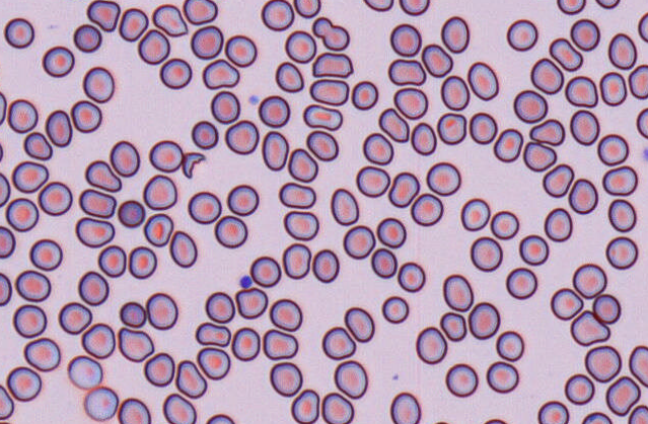PLT: (239, 275, 254, 290), (249, 95, 261, 105)
RBC: (570, 310, 610, 346), (605, 375, 640, 416), (584, 345, 621, 382), (311, 16, 349, 51), (333, 359, 367, 398), (117, 327, 154, 362), (83, 385, 118, 421), (572, 262, 607, 298), (142, 174, 177, 210), (23, 337, 60, 371), (530, 57, 564, 94), (467, 301, 500, 339), (145, 292, 178, 330), (175, 359, 207, 398), (467, 61, 499, 100), (6, 366, 41, 401), (426, 161, 461, 196), (224, 119, 259, 154), (67, 355, 103, 389), (81, 322, 115, 358), (11, 160, 48, 193), (151, 3, 188, 36), (84, 159, 121, 192), (415, 326, 447, 364), (75, 216, 114, 247), (12, 304, 47, 338), (137, 28, 170, 64), (15, 269, 51, 302), (82, 66, 114, 103), (442, 273, 473, 311), (5, 197, 39, 231), (549, 37, 583, 71), (196, 346, 230, 380), (513, 89, 547, 123), (38, 181, 72, 215), (187, 190, 221, 224), (321, 326, 356, 359), (269, 361, 302, 396), (469, 236, 502, 271), (342, 224, 375, 259), (393, 86, 428, 119), (148, 139, 183, 172), (262, 328, 298, 360), (202, 58, 239, 89), (109, 140, 140, 177), (78, 188, 116, 218), (311, 51, 353, 78), (445, 363, 478, 397), (58, 301, 92, 334), (410, 192, 443, 226), (190, 25, 223, 59), (143, 352, 175, 387), (355, 165, 390, 197), (261, 130, 289, 170), (388, 171, 419, 207), (568, 177, 598, 214), (330, 187, 359, 225), (440, 15, 469, 53), (550, 287, 583, 320), (605, 236, 638, 269), (269, 298, 302, 331), (214, 215, 247, 248), (224, 34, 257, 67), (235, 286, 268, 319), (421, 43, 453, 77), (542, 163, 574, 197), (564, 75, 598, 107), (70, 99, 102, 133), (287, 147, 318, 182), (378, 107, 409, 142), (78, 270, 109, 305), (7, 98, 38, 133), (602, 165, 637, 196), (344, 306, 374, 342), (302, 103, 342, 130), (283, 210, 319, 240), (309, 78, 349, 105), (569, 109, 599, 145), (282, 242, 311, 279), (608, 32, 637, 69), (321, 391, 354, 423), (486, 360, 518, 393), (284, 30, 316, 63), (41, 45, 74, 77), (29, 238, 62, 270), (597, 133, 629, 166), (159, 57, 192, 89), (389, 23, 421, 56), (226, 184, 259, 216), (506, 18, 538, 51), (257, 95, 290, 127), (86, 0, 120, 31), (260, 0, 294, 31), (387, 58, 426, 85), (169, 230, 197, 267), (278, 181, 316, 208), (45, 109, 72, 147), (389, 391, 421, 423), (505, 267, 537, 299), (249, 255, 281, 287), (306, 129, 338, 161), (362, 132, 393, 165), (162, 393, 196, 423), (118, 7, 148, 41), (493, 128, 523, 162), (460, 197, 490, 231), (290, 388, 319, 423), (231, 326, 260, 361), (440, 75, 469, 110), (204, 291, 235, 323), (523, 141, 556, 171), (143, 213, 173, 246), (570, 18, 600, 51), (210, 90, 240, 123), (607, 198, 636, 232), (128, 245, 157, 279), (311, 248, 339, 283), (599, 71, 627, 106), (529, 118, 565, 145), (518, 234, 549, 265), (3, 17, 34, 48), (436, 112, 466, 144), (97, 244, 126, 277), (544, 207, 572, 241), (564, 373, 594, 404), (376, 217, 406, 248), (469, 111, 497, 144), (195, 321, 230, 347), (592, 293, 621, 324), (495, 330, 524, 361), (275, 61, 304, 92), (117, 397, 151, 423), (410, 121, 436, 155), (397, 261, 425, 292), (23, 131, 52, 160), (490, 210, 519, 239), (73, 23, 102, 52), (182, 0, 217, 24), (370, 247, 397, 278), (117, 199, 145, 228), (439, 311, 466, 341), (351, 80, 378, 110), (628, 345, 647, 387), (191, 120, 218, 149), (381, 295, 408, 323), (537, 400, 569, 423), (119, 301, 146, 328), (628, 64, 647, 99), (0, 384, 14, 420), (293, 0, 321, 18), (0, 225, 15, 258), (399, 0, 429, 15), (0, 272, 12, 306), (556, 0, 585, 14), (627, 404, 647, 423), (581, 411, 612, 423), (0, 172, 10, 207), (636, 107, 647, 138), (363, 0, 393, 11), (637, 11, 647, 42), (205, 413, 234, 423), (0, 91, 7, 125), (595, 0, 620, 9), (483, 418, 507, 423), (432, 420, 450, 424), (0, 142, 3, 162), (0, 59, 2, 86)
Schistocyte: (181, 152, 207, 179)
